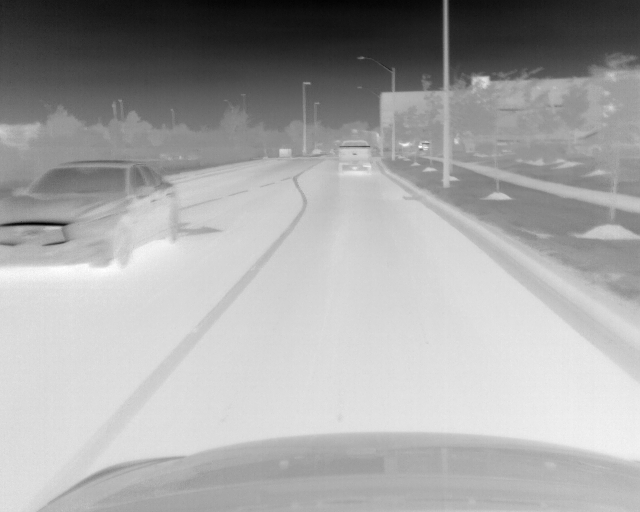car: (2, 158, 181, 269), (335, 139, 373, 181)
